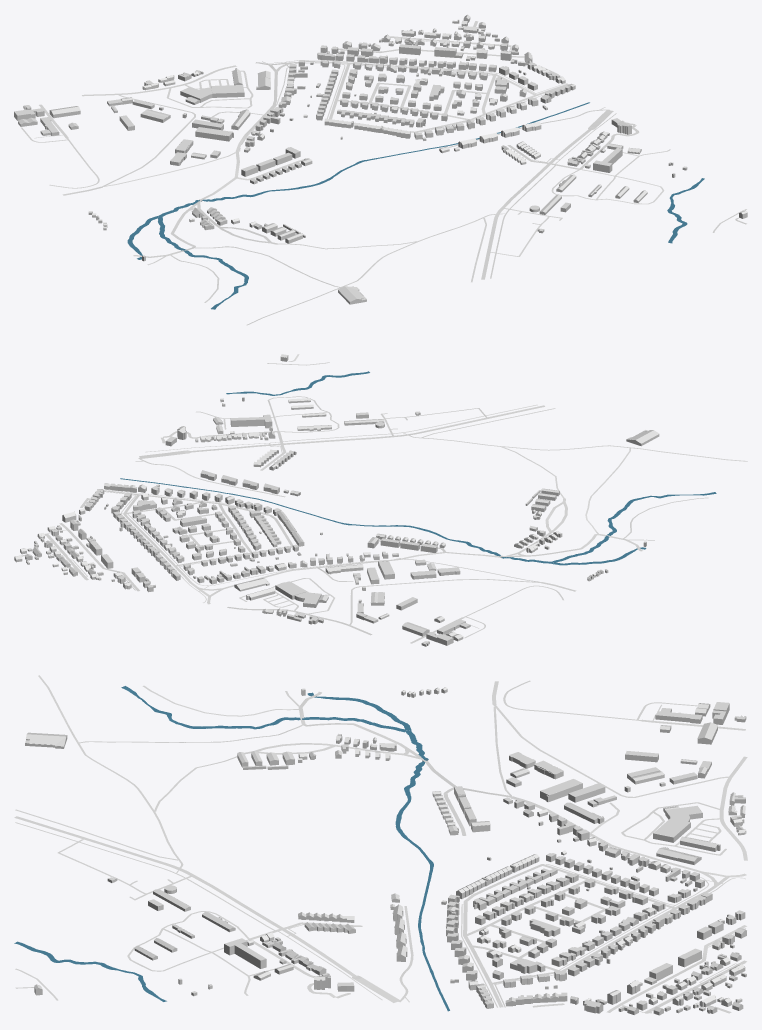
File: objekty.glb
3 views of the same model, one above another, from view 1: azimuth 30°, elevation 25°; view 2: azimuth 150°, elevation 25°; view 3: azimuth 270°, elevation 25° (orthographic). The views are drawn at different scales.
Visible parts, largest first — view 1: Budovy_04_05, Cesty_04_05, Okna_Dvere_04_05, Voda_04_05; view 2: Budovy_04_05, Cesty_04_05, Okna_Dvere_04_05, Voda_04_05; view 3: Budovy_04_05, Cesty_04_05, Okna_Dvere_04_05, Voda_04_05.
Part boxes in pixels (x1,y1,x2,y2): Budovy_04_05: [14, 14, 747, 304]; Cesty_04_05: [21, 21, 746, 325]; Okna_Dvere_04_05: [14, 20, 747, 303]; Voda_04_05: [127, 102, 704, 309]; Budovy_04_05: [14, 354, 659, 646]; Cesty_04_05: [14, 354, 747, 643]; Okna_Dvere_04_05: [14, 358, 658, 645]; Voda_04_05: [120, 371, 716, 565]; Budovy_04_05: [25, 687, 746, 1015]; Cesty_04_05: [14, 675, 747, 1013]; Okna_Dvere_04_05: [25, 690, 746, 1014]; Voda_04_05: [14, 686, 449, 1011].
Bounding box in the file's own units: 1013 × 52.29 × 1008.
